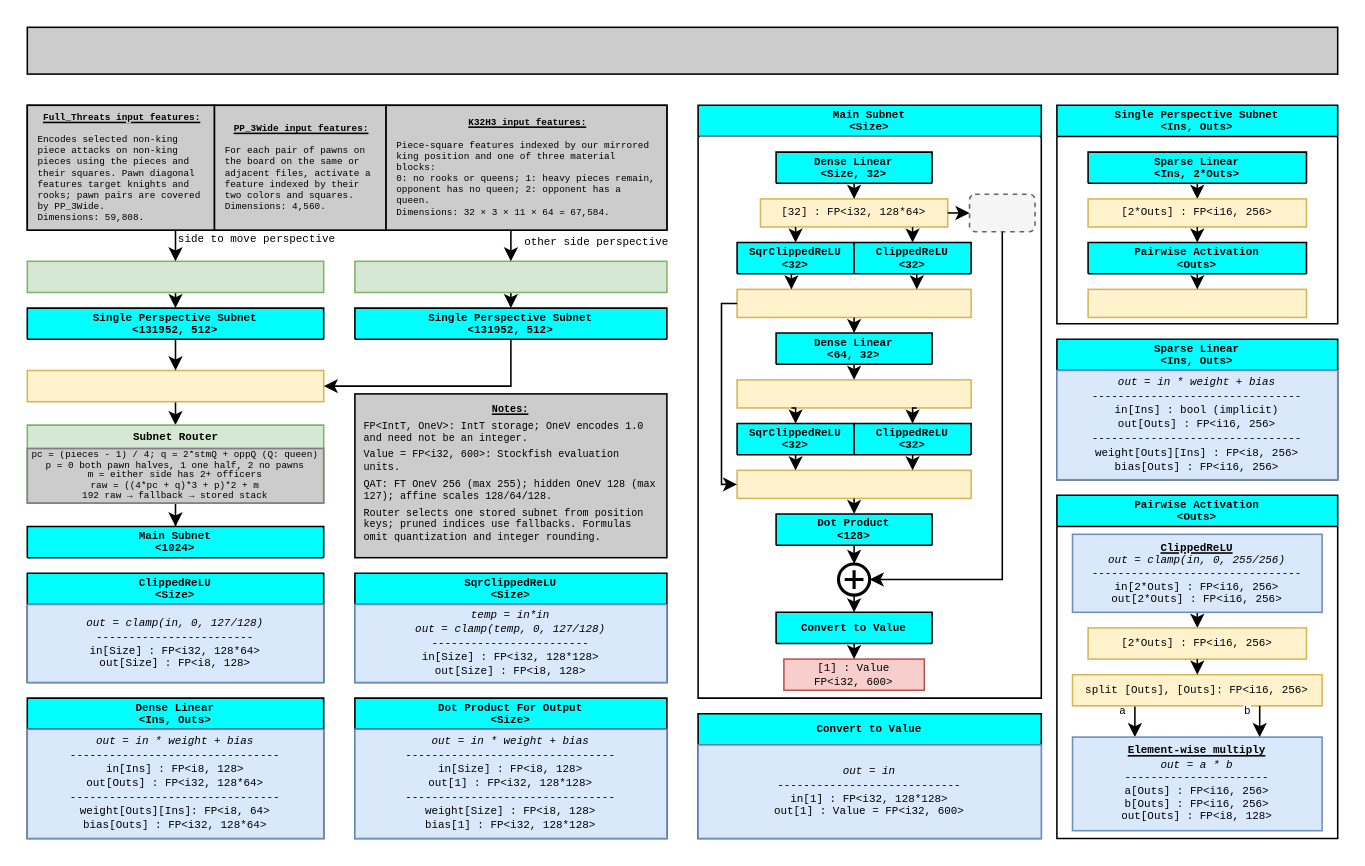
Some shapes in this 1365 by 866 pixel diagram are drawn without their labels. The shapes that lost their labels are listed below. From the top down, each one's centre as x and y in pixels, then its label:
point 682,50: Stockfish SFNNv20 evaluation network diagram
point 1001,212: skip x30 - x31
point 175,276: Input feature set [131952] : bool (implicit)
point 510,276: Input feature set [ 131952 ] : bool (implicit)
point 853,302: concat [64] : FP<i8, 128>
point 1196,302: [Outs] : FP<i8, 128>
point 175,385: concat [1024] : FP<i8, 128>
point 853,393: [32] : FP<i32, 128*64>
point 853,483: concat [128] : FP<i8, 128>
